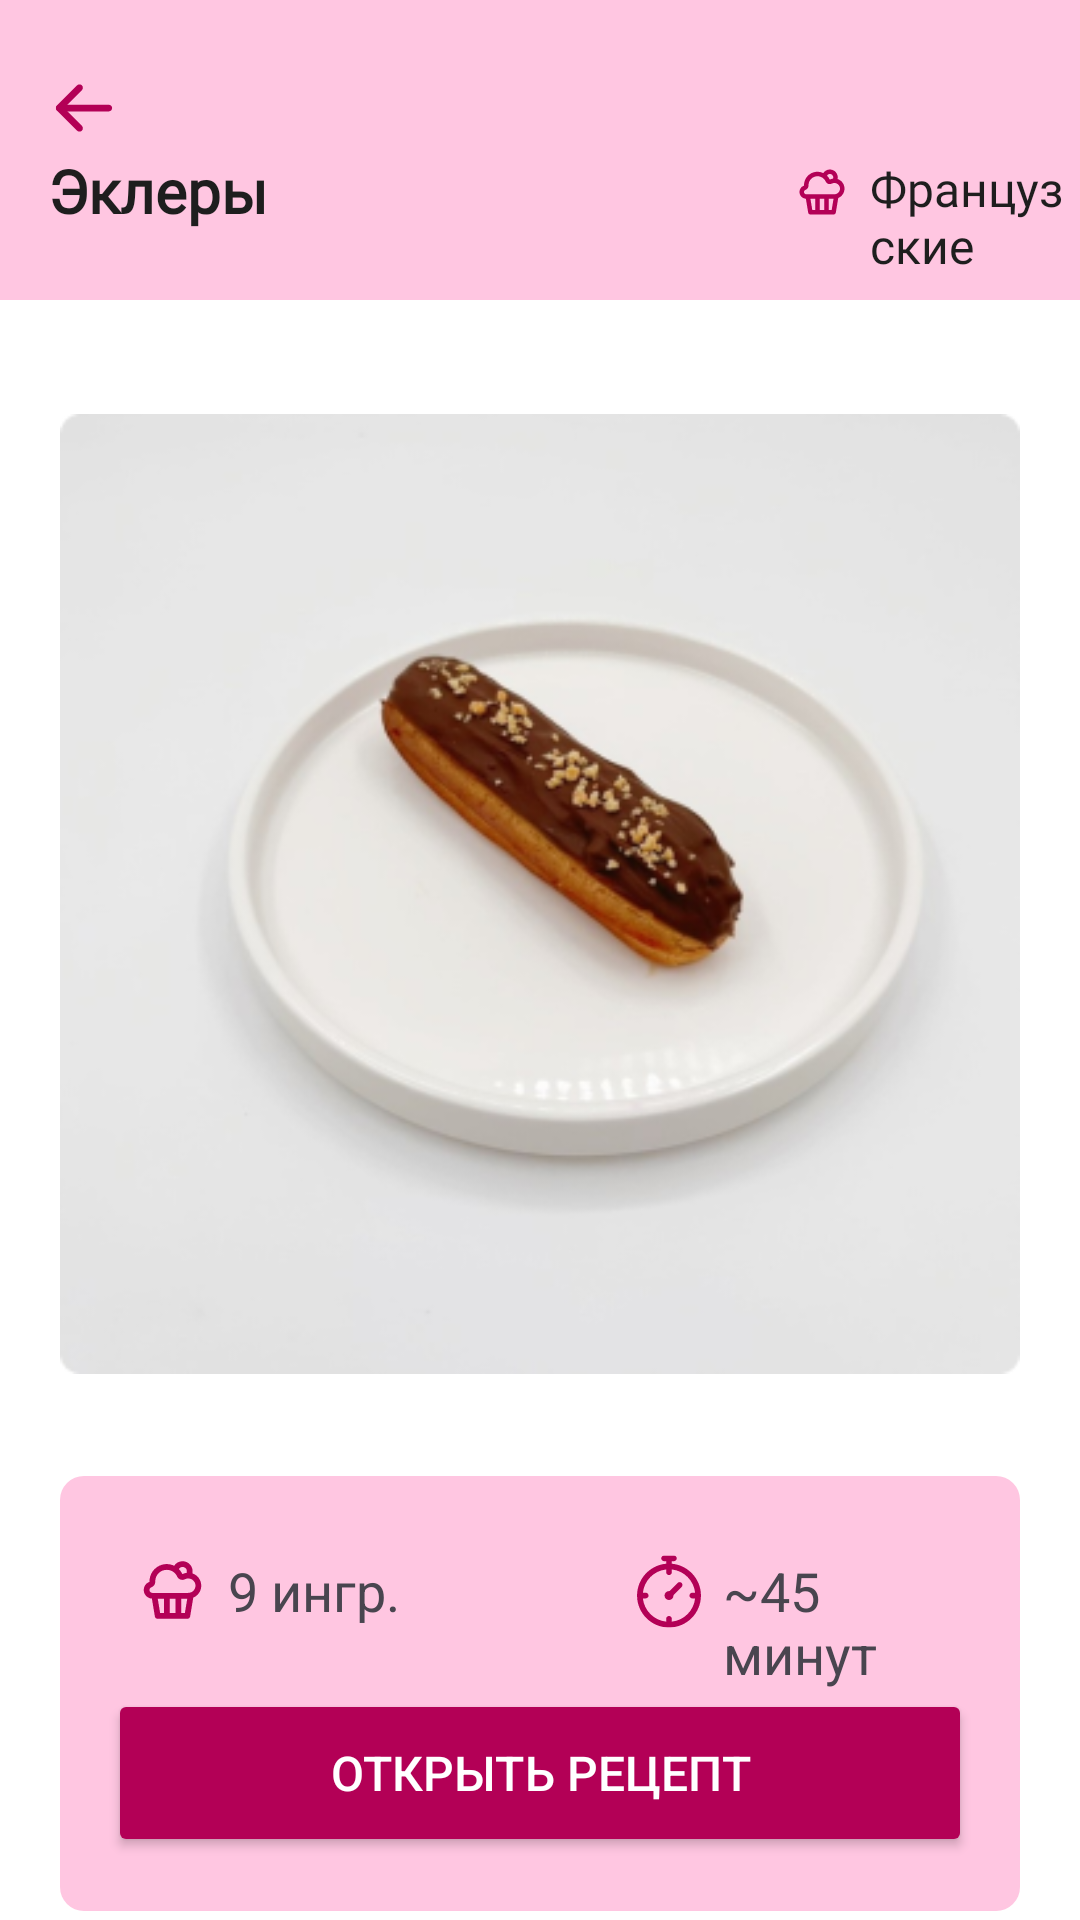

Screen size 1080w x 1920h. Icon name, then its center in pixels as (x,y):
cake: (172,1590)
timer: (669,1591)
